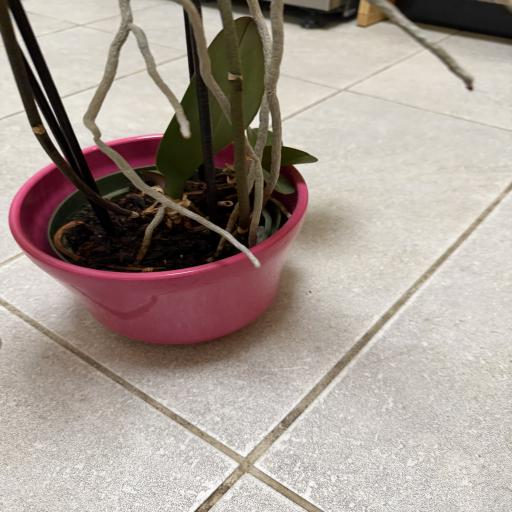Plant Pot: (10, 134, 309, 344)
